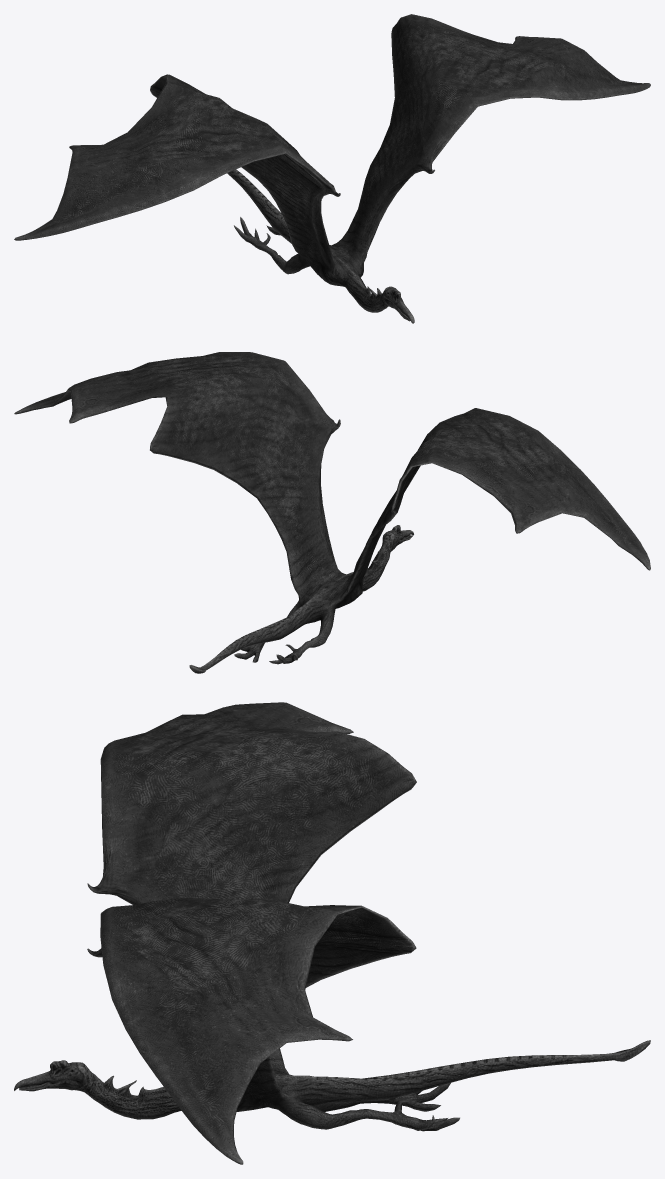
File: Fellbeast_FlyAnim_9.obj
3 views of the same model, one above another, from view 1: azimuth 30°, elevation 25°; view 2: azimuth 150°, elevation 25°; view 3: azimuth 270°, elevation 25° (orthographic). The views are drawn at different scales.
Visible parts, largest first — view 1: Fellbeast; view 2: Fellbeast; view 3: Fellbeast.
Boxes of the visible parts, <box> form: Fellbeast: <box>14,14,650,323</box>; Fellbeast: <box>14,352,650,673</box>; Fellbeast: <box>14,702,650,1164</box>.
Size of the model in its own units: 7.1 by 2.29 by 4.35.
